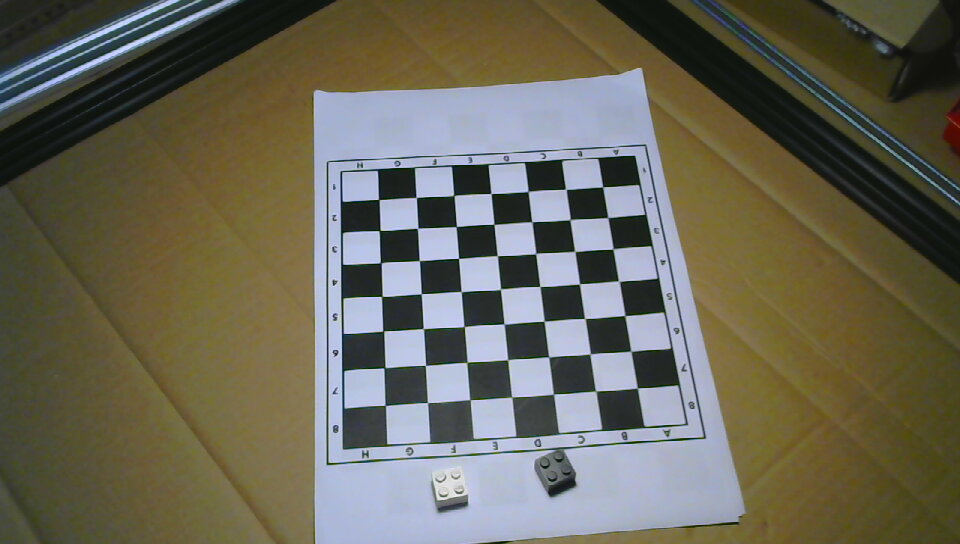bp: (534, 449, 577, 495)
wp: (430, 465, 469, 510)
